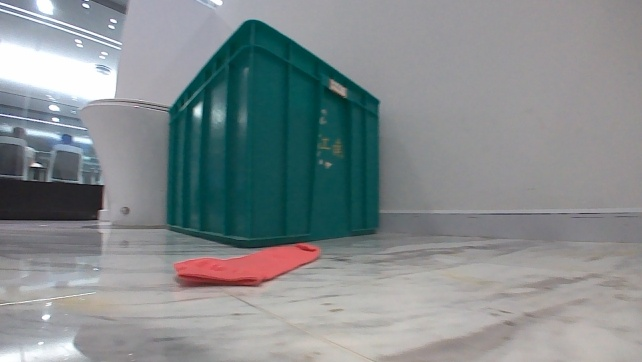socks: (170, 240, 320, 291)
toilet: (77, 92, 173, 228)
